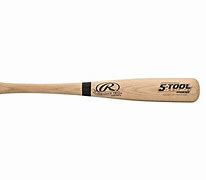bat: (1, 76, 201, 104)
